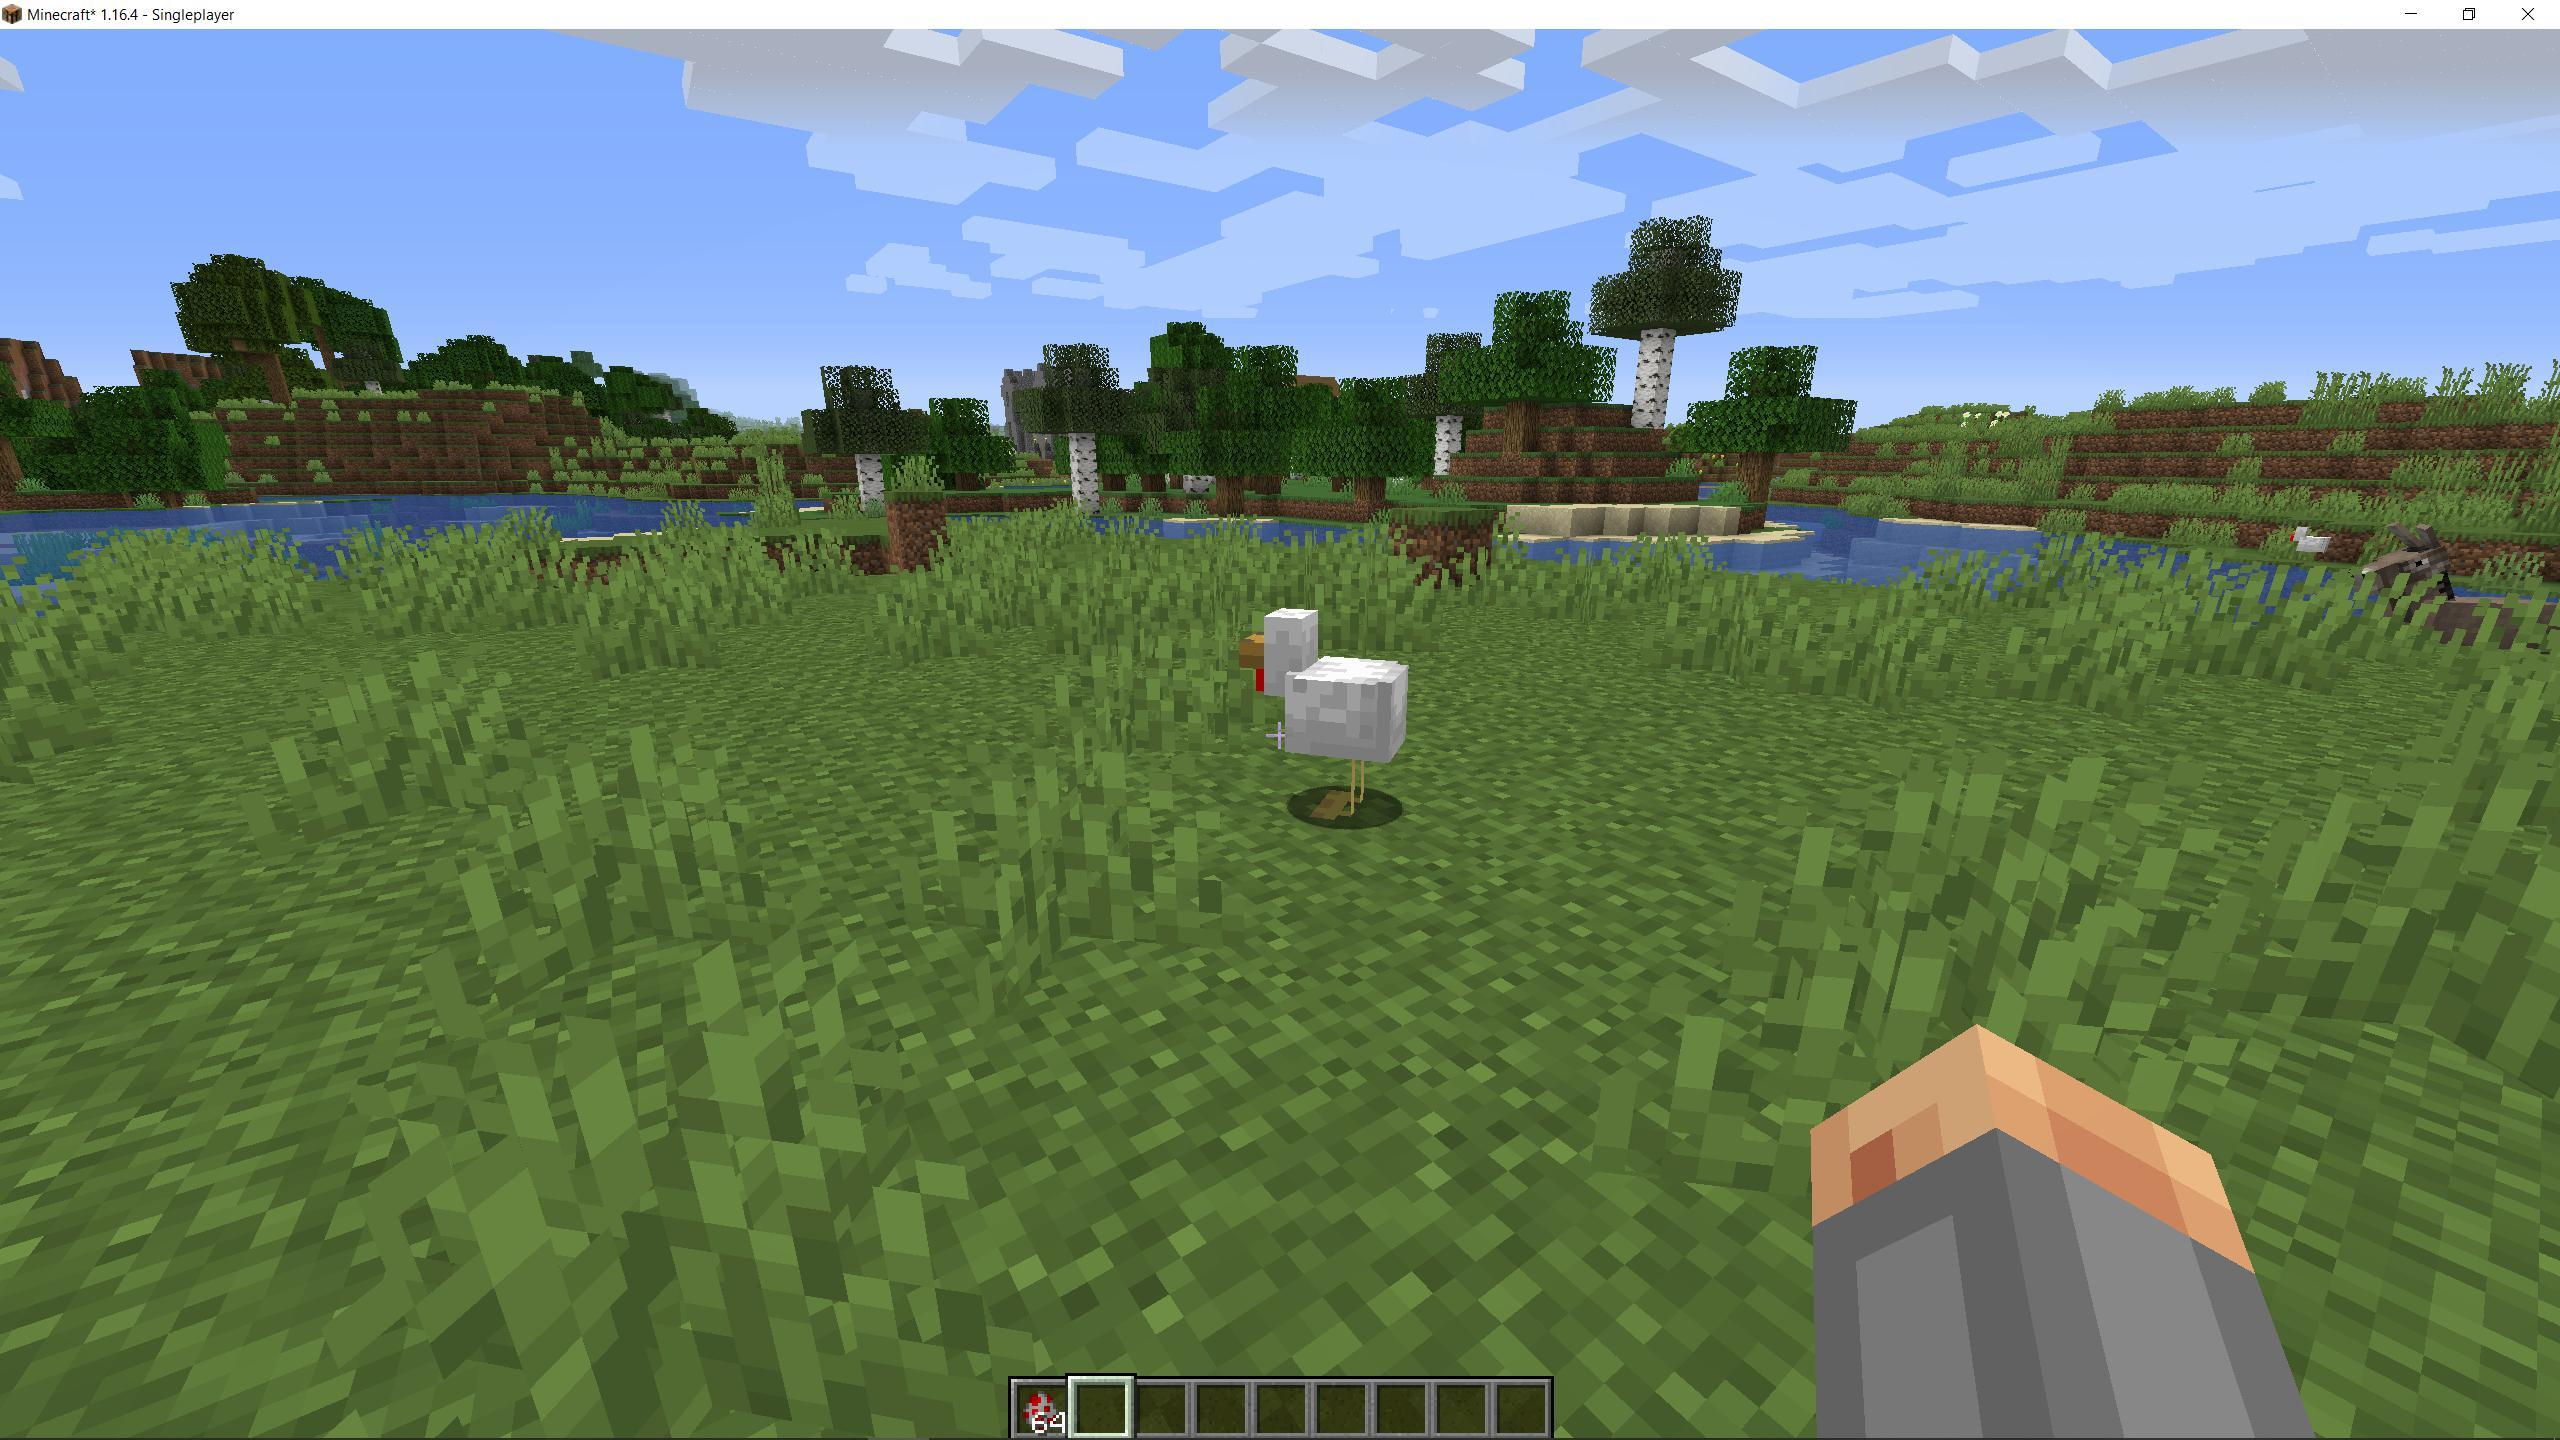chicken: (1231, 601, 1422, 830), (2289, 524, 2324, 559)
